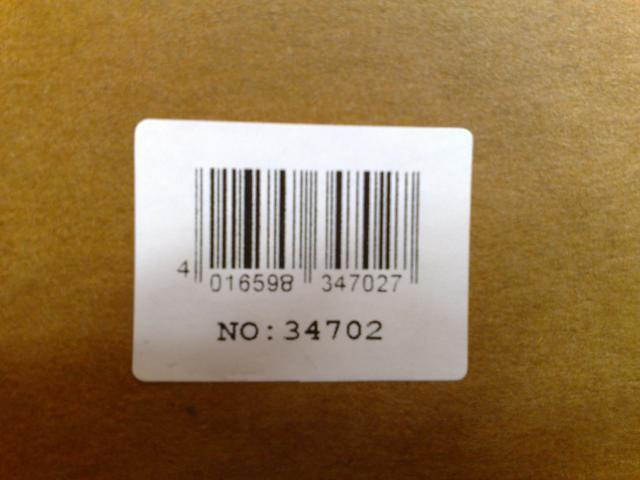Barcode: (171, 165, 427, 306)
